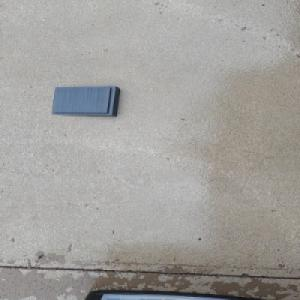PlasticPart: (49, 85, 121, 117)
